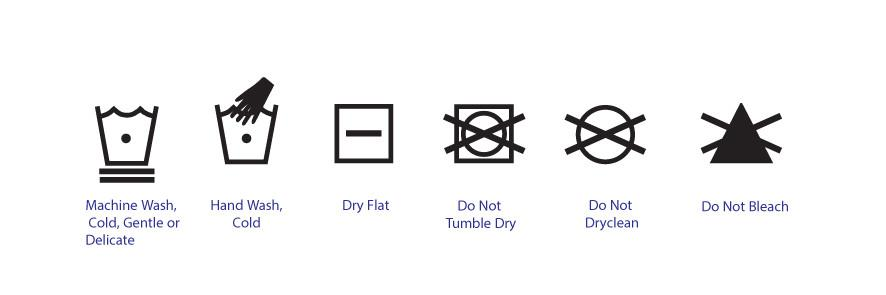do_not_bleach: (691, 101, 789, 171)
do_not_dry_clean: (560, 102, 655, 170)
